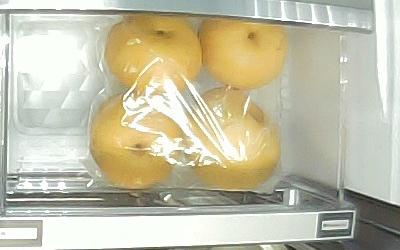pear_vinyl: (187, 86, 281, 189), (89, 93, 186, 189), (106, 14, 202, 98), (200, 16, 289, 90)
